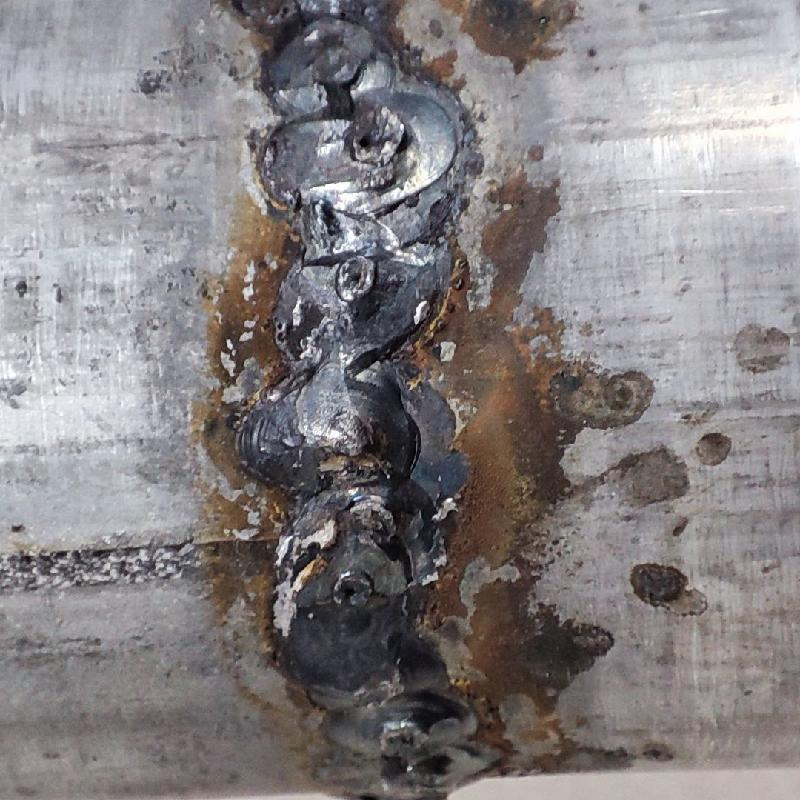Surface_pores: (331, 575, 379, 606), (344, 263, 372, 295)
wrong_size: (239, 1, 483, 792)
